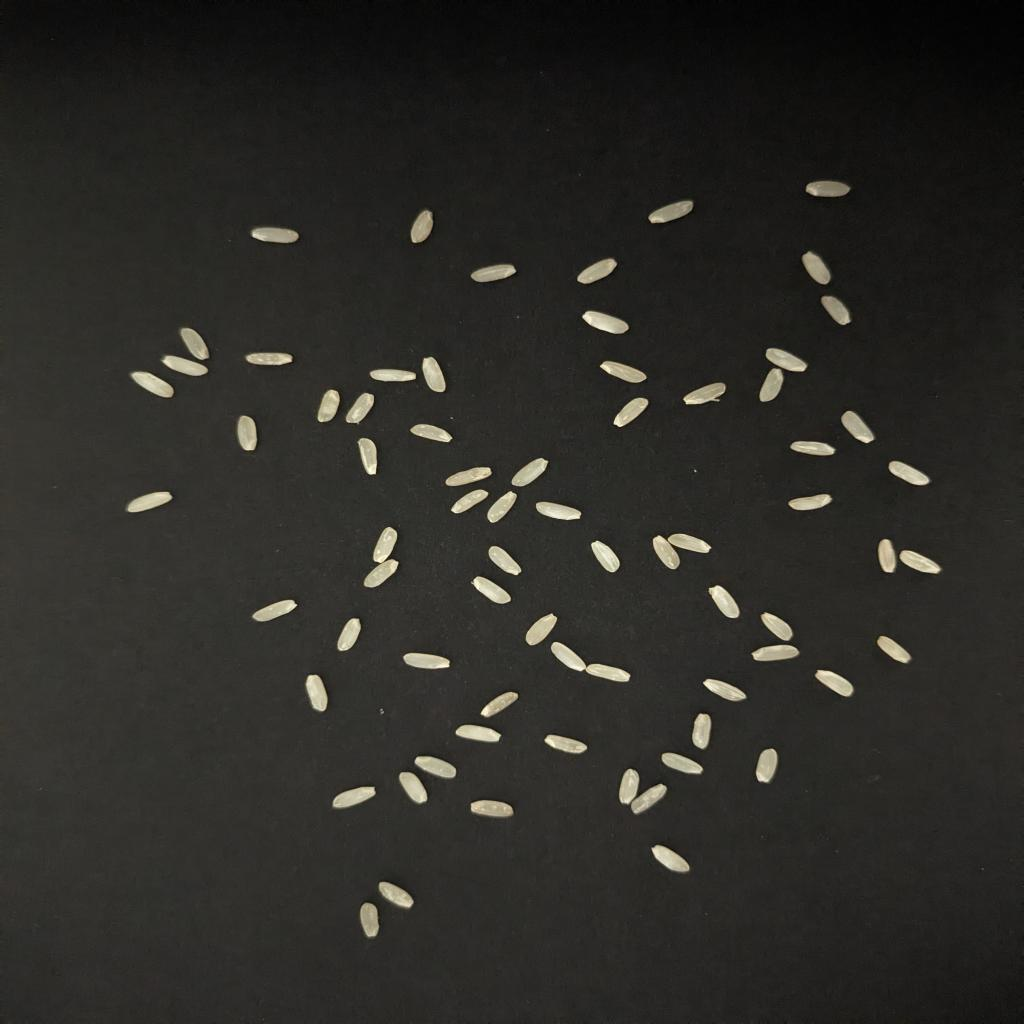good-rice: (631, 784, 669, 814), (471, 576, 511, 604), (647, 200, 693, 224), (583, 310, 629, 334), (131, 372, 173, 398), (842, 410, 874, 444), (511, 458, 549, 486), (599, 360, 647, 382), (890, 460, 930, 486), (815, 670, 855, 696), (764, 348, 807, 372), (703, 678, 746, 702), (178, 328, 210, 360), (525, 614, 557, 646), (162, 354, 208, 376), (709, 586, 740, 618), (365, 560, 400, 588), (487, 546, 522, 574), (551, 642, 586, 670), (876, 636, 911, 664), (578, 258, 615, 284), (482, 692, 519, 718), (653, 846, 690, 872), (346, 392, 376, 424), (820, 296, 852, 326), (125, 492, 173, 512), (900, 550, 940, 574), (762, 612, 794, 642), (613, 398, 647, 426), (253, 600, 296, 622), (333, 786, 376, 808), (802, 252, 831, 284), (400, 772, 429, 804), (685, 382, 727, 404), (661, 752, 703, 774), (378, 882, 413, 908), (487, 492, 517, 522), (591, 542, 621, 572), (450, 490, 487, 514), (653, 536, 679, 570), (445, 468, 493, 486), (751, 644, 799, 662), (402, 652, 450, 670), (416, 756, 455, 778), (669, 534, 711, 554), (306, 674, 328, 712), (804, 180, 850, 198), (471, 264, 517, 282), (535, 502, 581, 520), (455, 724, 501, 742), (410, 210, 434, 244), (421, 358, 445, 392), (759, 368, 783, 402), (373, 528, 397, 562), (586, 664, 631, 682), (546, 734, 586, 754), (410, 424, 453, 442), (471, 800, 514, 818), (250, 228, 298, 244), (317, 390, 341, 422), (336, 618, 360, 650), (357, 438, 378, 474), (618, 768, 639, 804), (756, 748, 778, 782), (791, 440, 836, 456), (237, 416, 258, 450), (788, 494, 831, 510), (879, 538, 898, 574), (245, 352, 293, 366), (360, 902, 378, 938), (370, 368, 416, 382), (693, 714, 711, 748)
